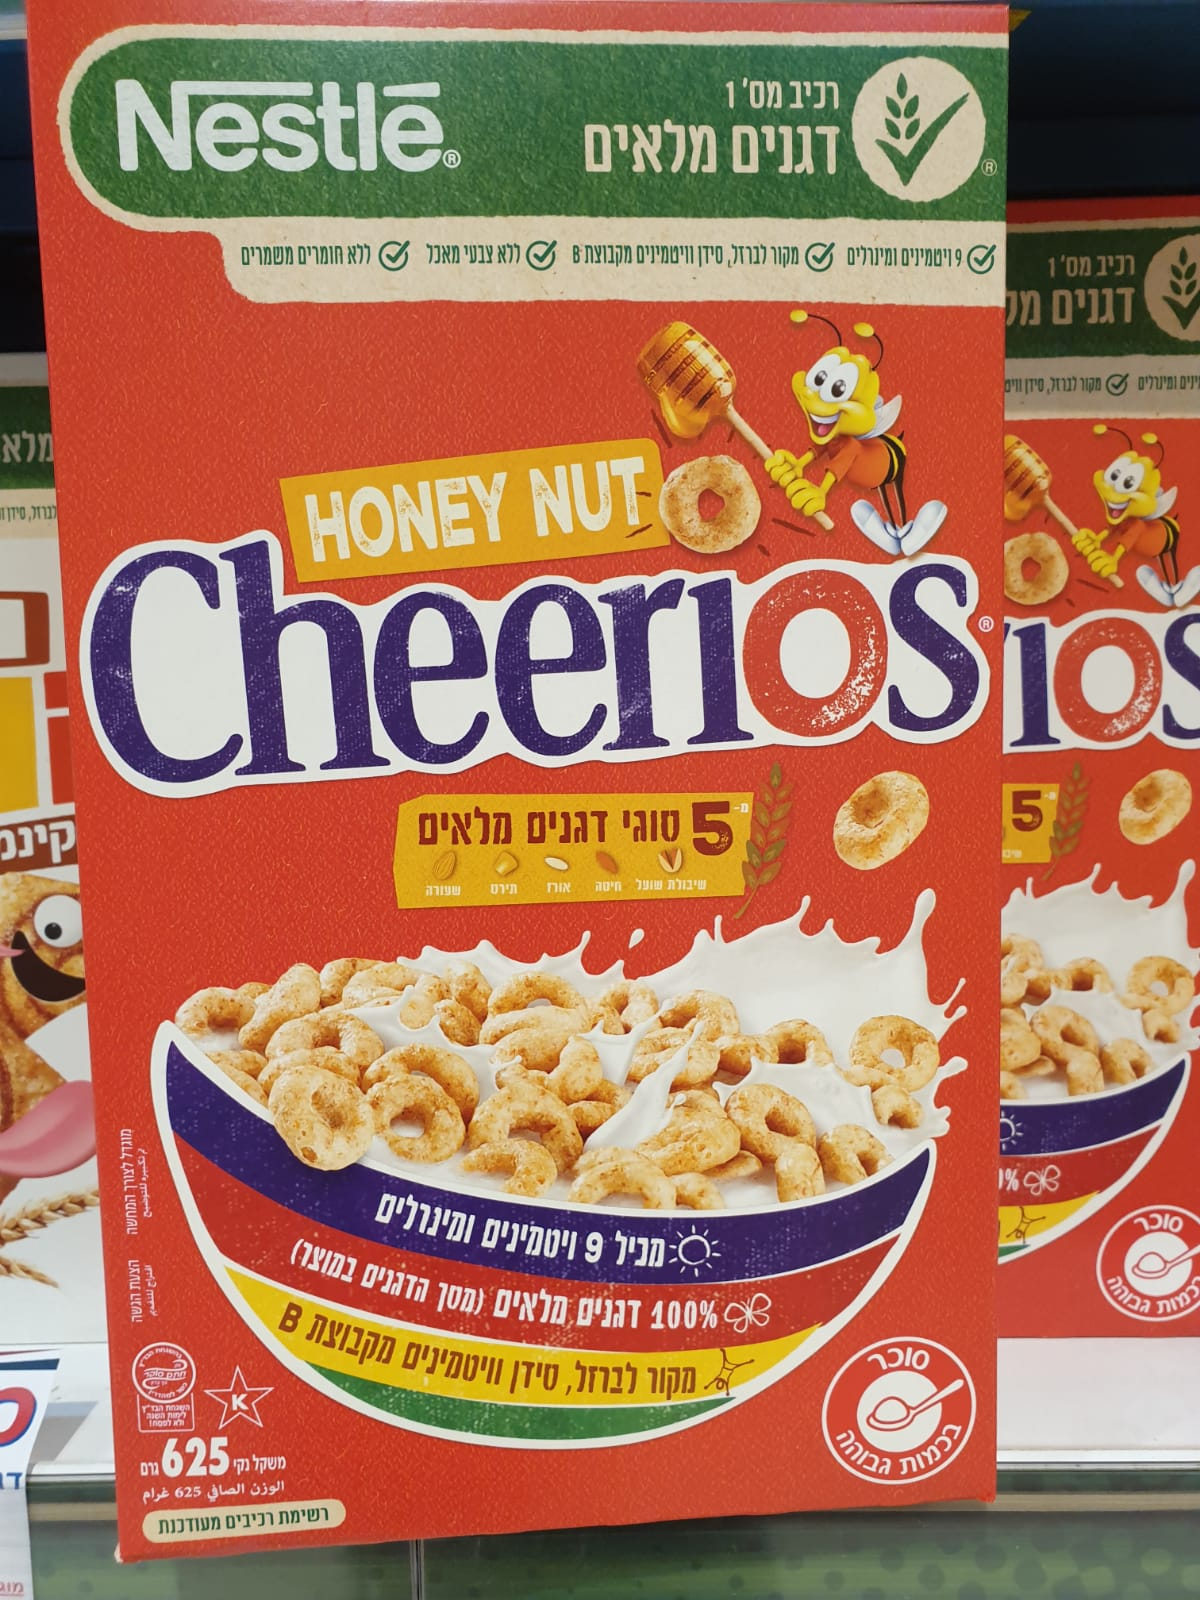sugar: (821, 1335, 979, 1487), (1092, 1206, 1200, 1324)
